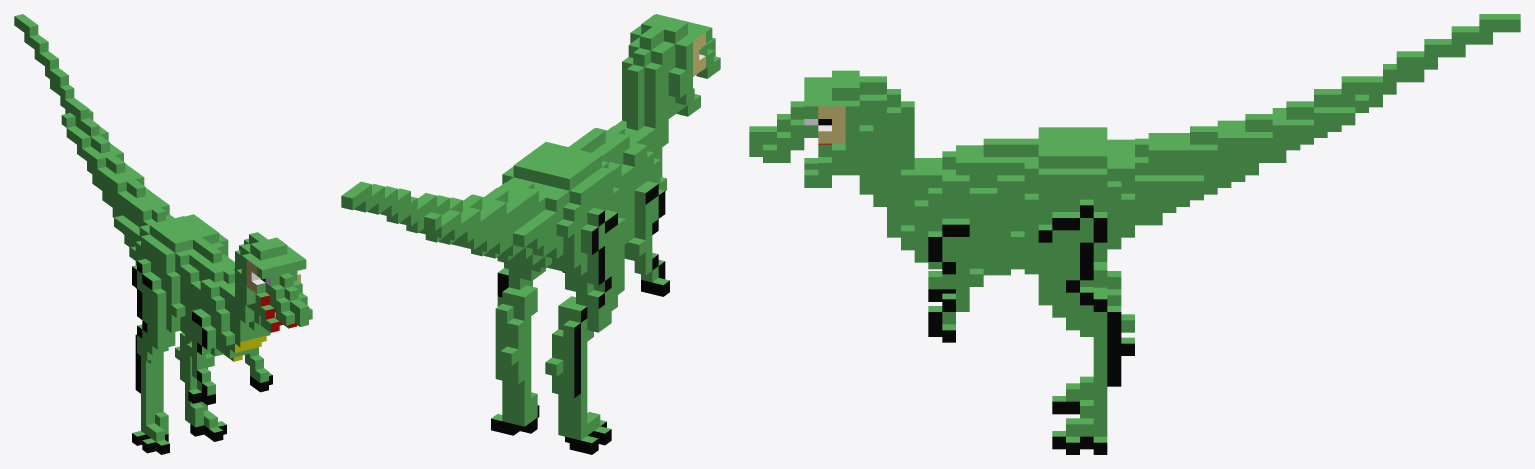
Rendered from velociraptorVC.obj.
3 views of the same model, side by side, from view 1: azimuth 30°, elevation 25°; view 2: azimuth 150°, elevation 25°; view 3: azimuth 270°, elevation 25° (orthographic). The views are drawn at different scales.
Parts seen in each view (by area): view 1: Cube.012_Cube.001; view 2: Cube.012_Cube.001; view 3: Cube.012_Cube.001.
Boxes of the visible parts, left/top/right/bottom form: Cube.012_Cube.001: left=14, top=14, right=312, bottom=454; Cube.012_Cube.001: left=341, top=14, right=720, bottom=454; Cube.012_Cube.001: left=749, top=14, right=1520, bottom=454.
Size of the model in its own units: 0.9233 by 3.39 by 5.74.
